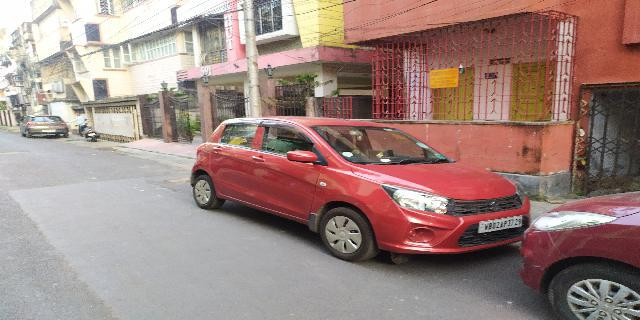Car: (187, 106, 529, 270), (519, 181, 640, 320), (20, 112, 68, 138)
Motorbike: (72, 120, 100, 143)
